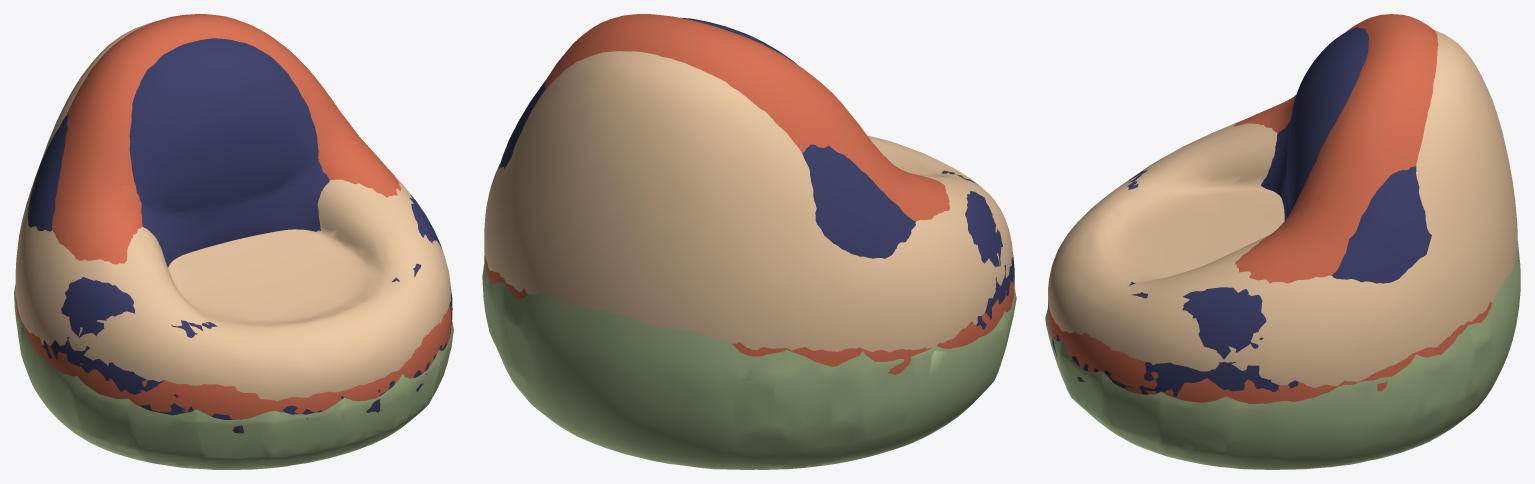
The model's file is picnic-beanbags.glb.
The picture shows the model from 3 angles, left to right: view 1: azimuth 30°, elevation 25°; view 2: azimuth 150°, elevation 25°; view 3: azimuth 270°, elevation 25°; orthographic projection. The views are drawn at different scales.
Visible parts, largest first — view 1: Beige, Blue, Orange, Green; view 2: Beige, Green, Orange, Blue; view 3: Beige, Green, Orange, Blue.
Part boxes in pixels (x1=…): Beige: x1=15, y1=21, x2=450, y2=401; Blue: x1=28, y1=38, x2=452, y2=433; Orange: x1=15, y1=14, x2=451, y2=419; Green: x1=14, y1=284, x2=453, y2=469; Beige: x1=484, y1=51, x2=1012, y2=352; Green: x1=482, y1=259, x2=1016, y2=469; Orange: x1=484, y1=14, x2=1014, y2=374; Blue: x1=499, y1=17, x2=1014, y2=329; Beige: x1=1048, y1=30, x2=1517, y2=387; Green: x1=1045, y1=241, x2=1520, y2=469; Orange: x1=1048, y1=14, x2=1492, y2=404; Blue: x1=1048, y1=27, x2=1431, y2=396.
Size of the model in its own units: 1.04 by 0.8647 by 1.05.
